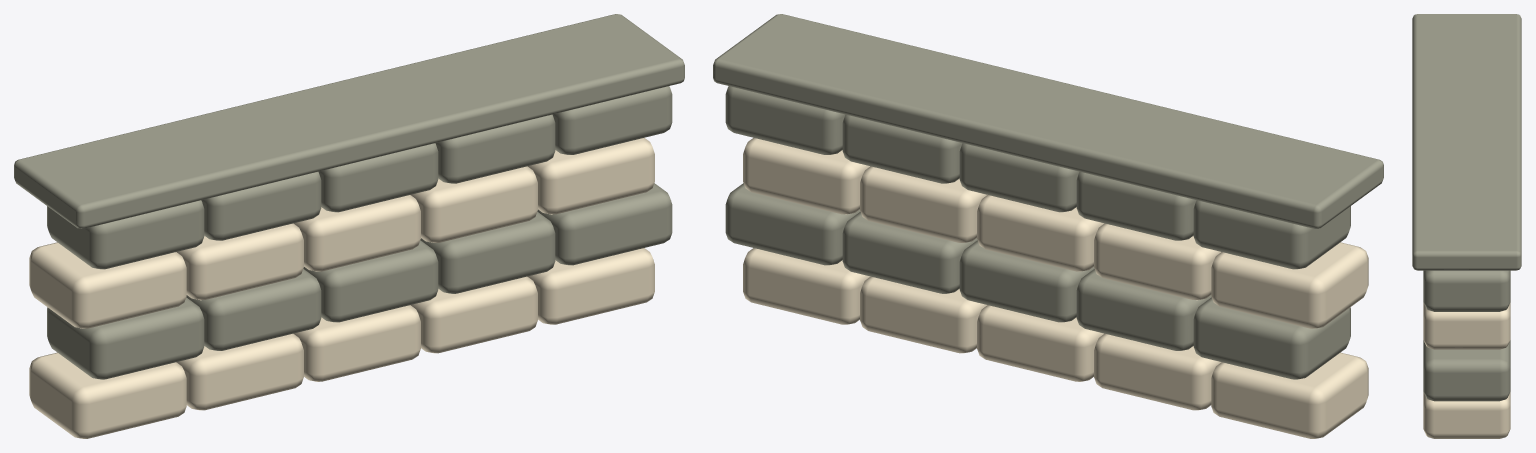
The model's file is almanac-gardens-dry-stone-wall-178e3bfd__22015.glb.
The picture shows the model from 3 angles, left to right: view 1: azimuth 30°, elevation 25°; view 2: azimuth 150°, elevation 25°; view 3: azimuth 270°, elevation 25°; orthographic projection. The views are drawn at different scales.
Parts seen in each view (by area): view 1: dry-stone-wall-stone, dry-stone-wall-ivory; view 2: dry-stone-wall-stone, dry-stone-wall-ivory; view 3: dry-stone-wall-stone, dry-stone-wall-ivory.
Part boxes in pixels (bbox=[...]): dry-stone-wall-stone: bbox=[14, 14, 684, 379]; dry-stone-wall-ivory: bbox=[29, 137, 654, 438]; dry-stone-wall-stone: bbox=[713, 14, 1383, 379]; dry-stone-wall-ivory: bbox=[743, 137, 1368, 438]; dry-stone-wall-stone: bbox=[1412, 14, 1521, 401]; dry-stone-wall-ivory: bbox=[1423, 302, 1510, 438].
Size of the model in its own units: 2.08 by 0.8001 by 0.3999.
